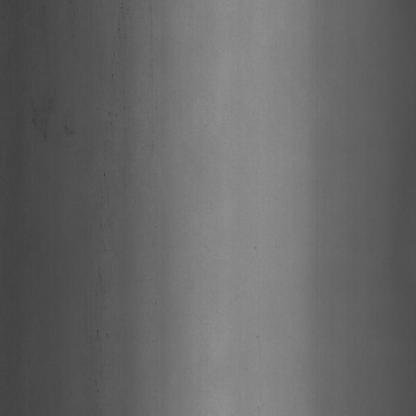inclusion: (89, 193, 114, 397), (103, 8, 132, 180), (25, 80, 81, 165)
